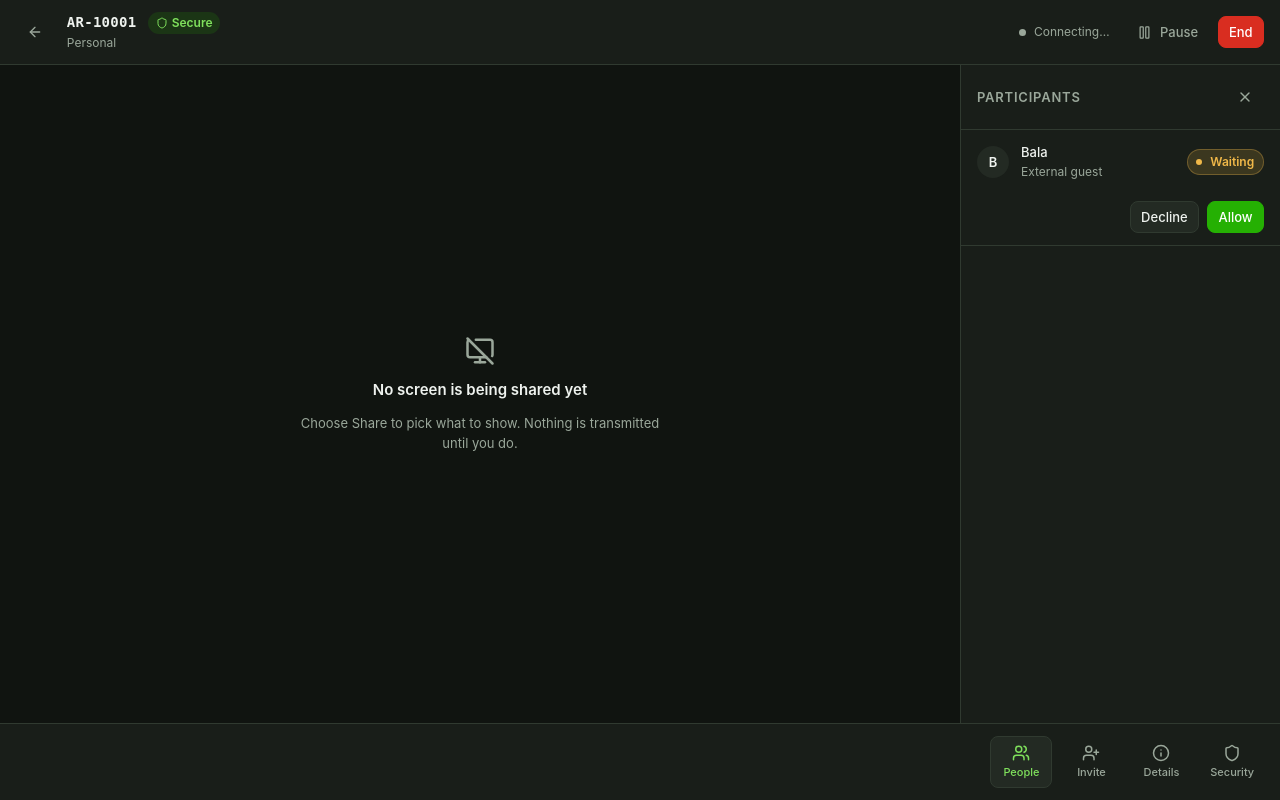
Test: the room header › says so when declining somebody from the participant list failed
Click the button "Decline": (1164, 217) [1130,201,1199,233]
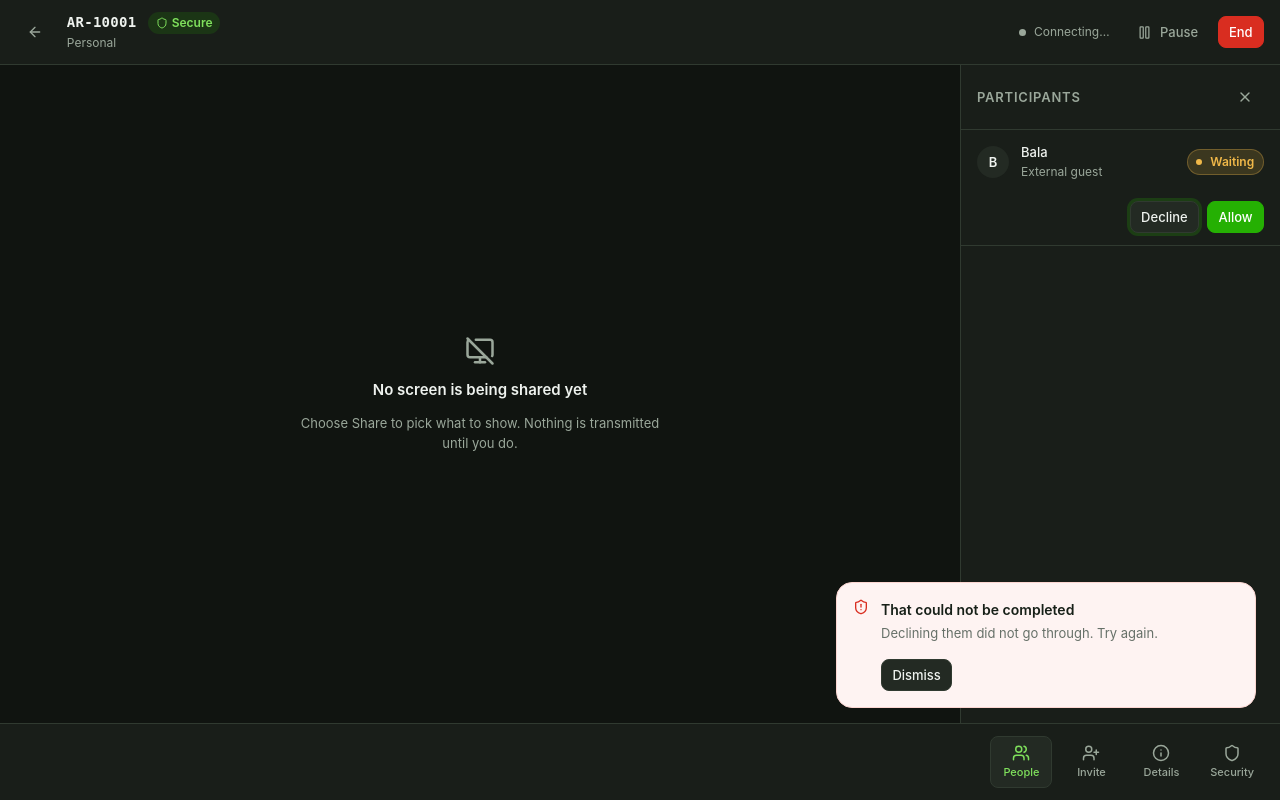
Check: the text "Declining them did not go through. Try again." is shown, box [881,623,1158,643]
